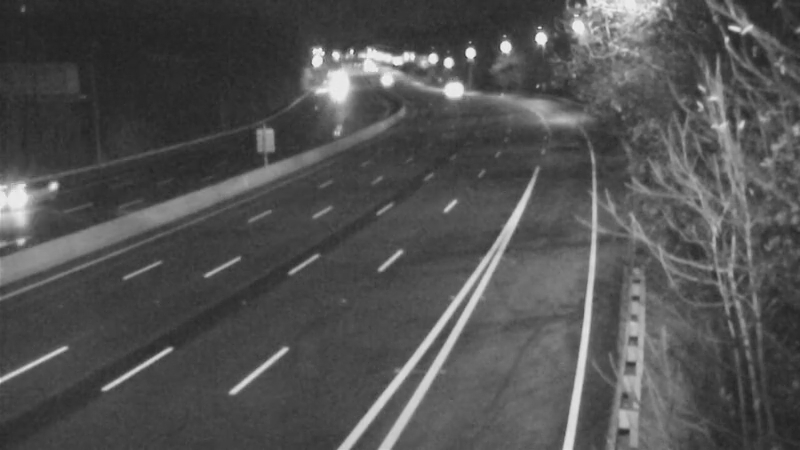vehicle: (1, 153, 75, 233), (360, 54, 410, 104), (429, 65, 479, 115)
